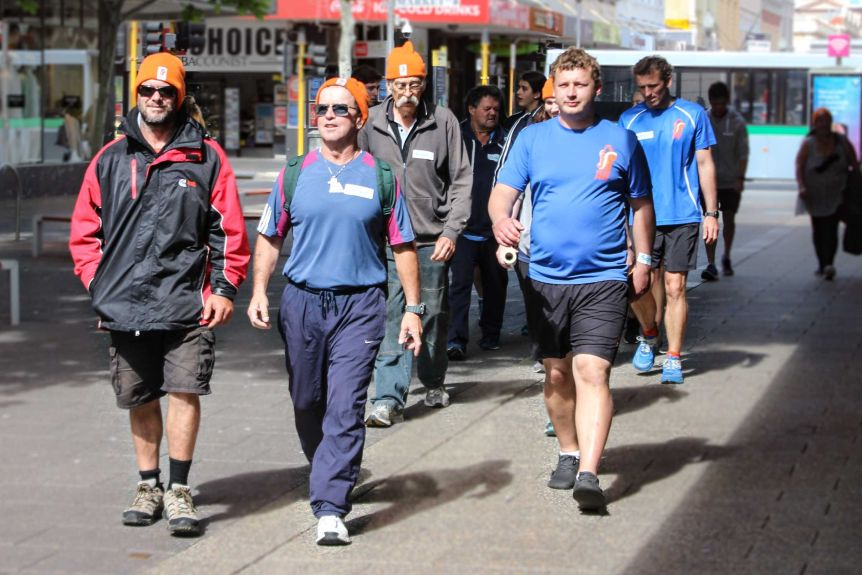person: (54, 51, 252, 542), (242, 66, 437, 553), (484, 41, 662, 523), (357, 42, 475, 429), (612, 51, 727, 393), (449, 74, 512, 364), (783, 99, 862, 284), (694, 75, 762, 287), (508, 69, 555, 124)
